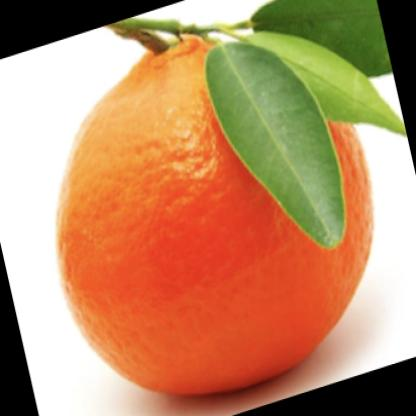fresh: (60, 41, 375, 395)
